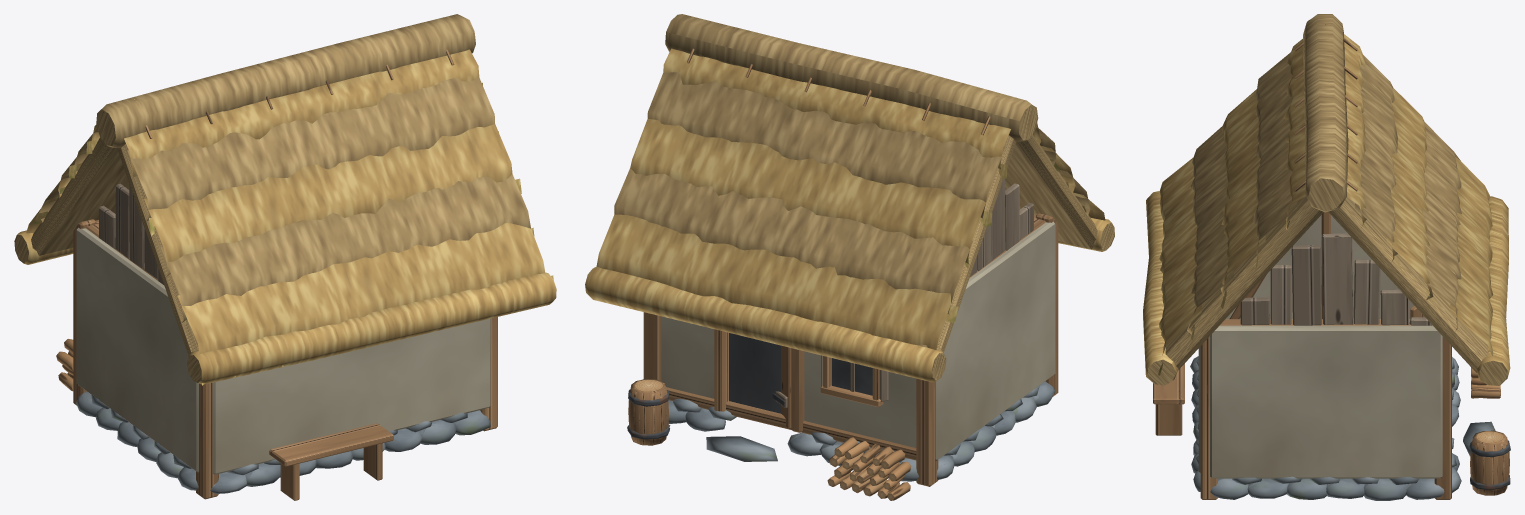
File: bw_daub_house.fbx
The picture shows the model from 3 angles, left to right: view 1: azimuth 30°, elevation 25°; view 2: azimuth 150°, elevation 25°; view 3: azimuth 270°, elevation 25°; orthographic projection. The views are drawn at different scales.
Visible parts, largest first — view 1: bw_daub_house; view 2: bw_daub_house; view 3: bw_daub_house.
Part boxes in pixels (box(x1,y1,x2,y2)): bw_daub_house: box(14, 14, 556, 500); bw_daub_house: box(585, 14, 1114, 500); bw_daub_house: box(1143, 14, 1510, 500).
Bounding box in the file's own units: 2.99 × 2.81 × 2.75.
